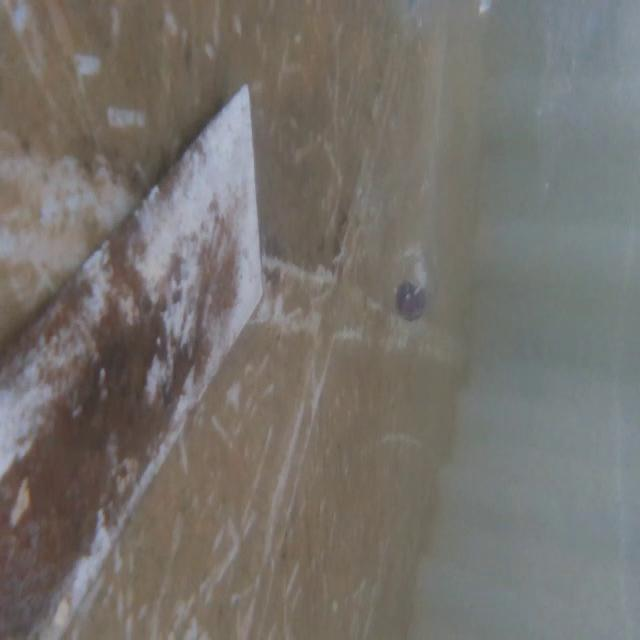metal: (0, 80, 271, 640)
plastic bottle: (345, 126, 446, 333)
